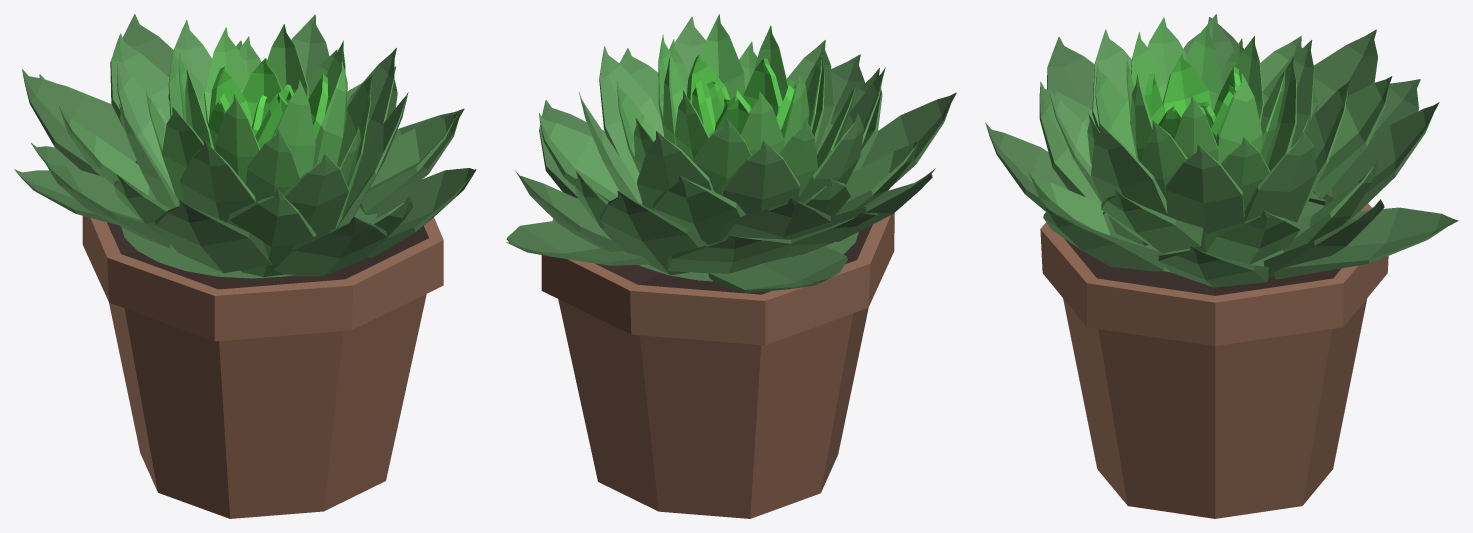
File: succulent.fbx
3 views of the same model, side by side, from view 1: azimuth 30°, elevation 25°; view 2: azimuth 150°, elevation 25°; view 3: azimuth 270°, elevation 25° (orthographic). The views are drawn at different scales.
Visible parts, largest first — view 1: pCube48, pCube45, pCube49; view 2: pCube48, pCube45, pCube49, pCube50; view 3: pCube48, pCube45, pCube50.
Boxes of the visible parts, x1,y1,x2,y2 form: pCube48: [22, 14, 476, 278]; pCube45: [82, 216, 443, 518]; pCube49: [14, 169, 116, 224]; pCube48: [515, 14, 956, 281]; pCube45: [541, 213, 894, 518]; pCube49: [708, 246, 847, 293]; pCube50: [506, 220, 651, 265]; pCube48: [985, 14, 1439, 287]; pCube45: [1040, 203, 1388, 518]; pCube50: [1273, 207, 1458, 279].
Bounding box in the file's own units: 4.03 × 4.01 × 4.16.
